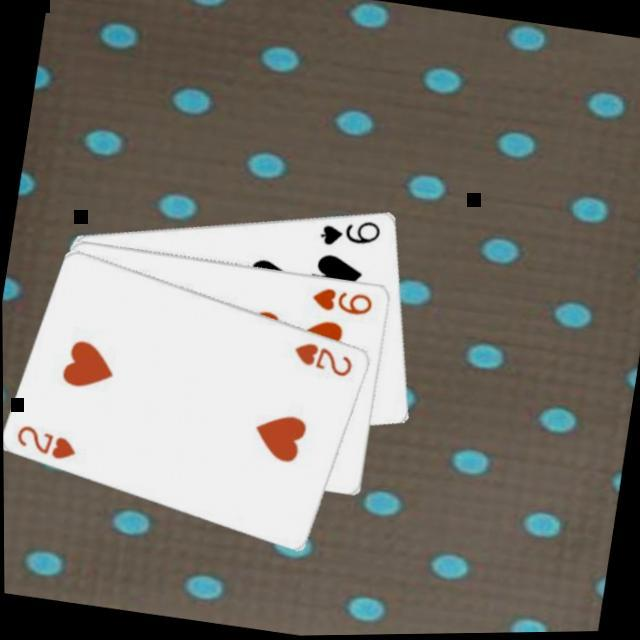2H: (288, 338, 359, 385), (11, 421, 82, 466)
9H: (308, 282, 378, 322)
9S: (316, 211, 386, 258)
